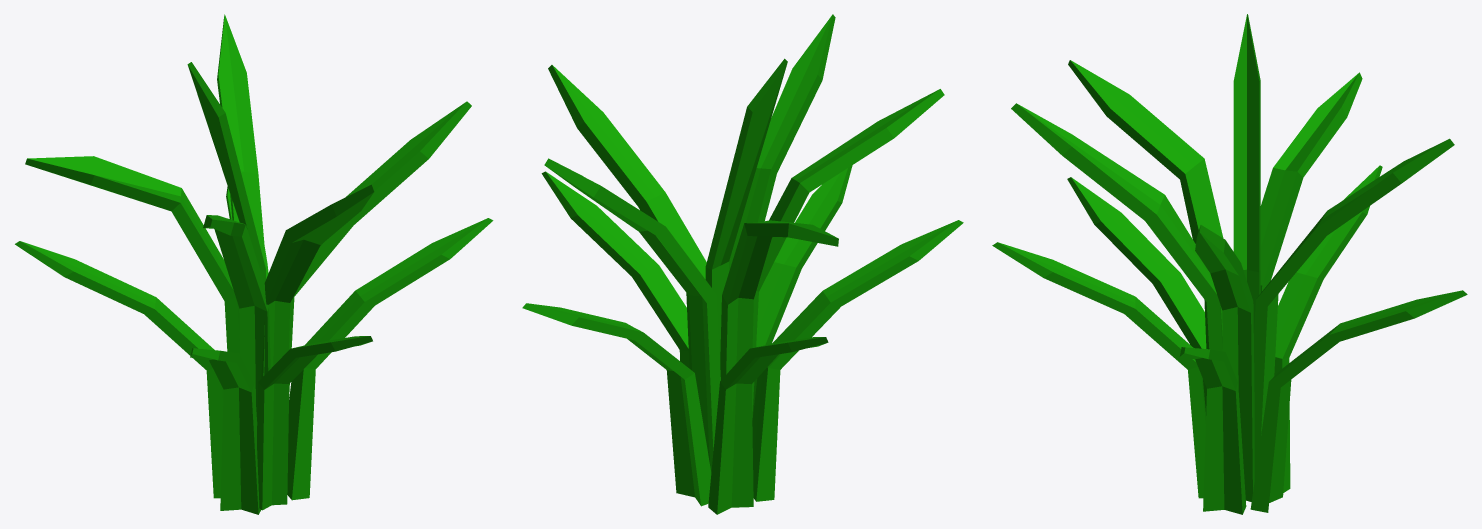
File: GrassPatchA1.fbx
The picture shows the model from 3 angles, left to right: view 1: azimuth 30°, elevation 25°; view 2: azimuth 150°, elevation 25°; view 3: azimuth 270°, elevation 25°; orthographic projection.
Visible parts, largest first — view 1: Cube.001; view 2: Cube.001; view 3: Cube.001.
Part boxes in pixels (x1,y1,x2,y2): Cube.001: [15, 14, 493, 514]; Cube.001: [522, 14, 963, 514]; Cube.001: [992, 14, 1467, 514].
Bounding box in the file's own units: 1008 × 1075 × 1130.
